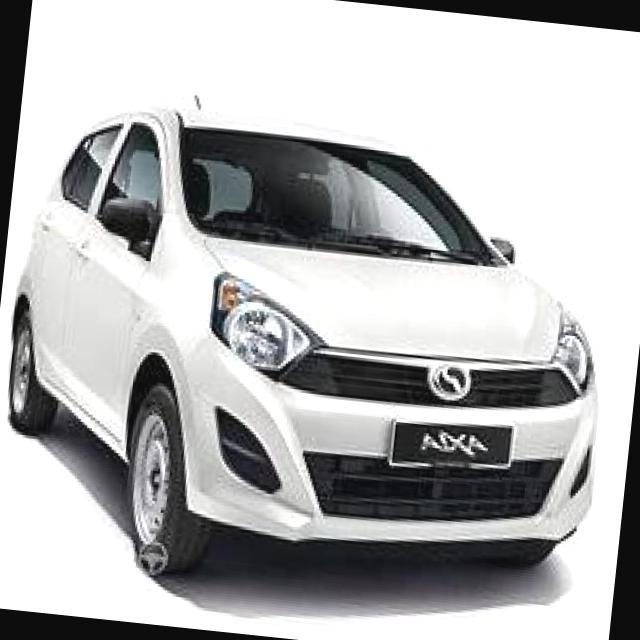PeroduaAxia: (0, 77, 631, 621)
